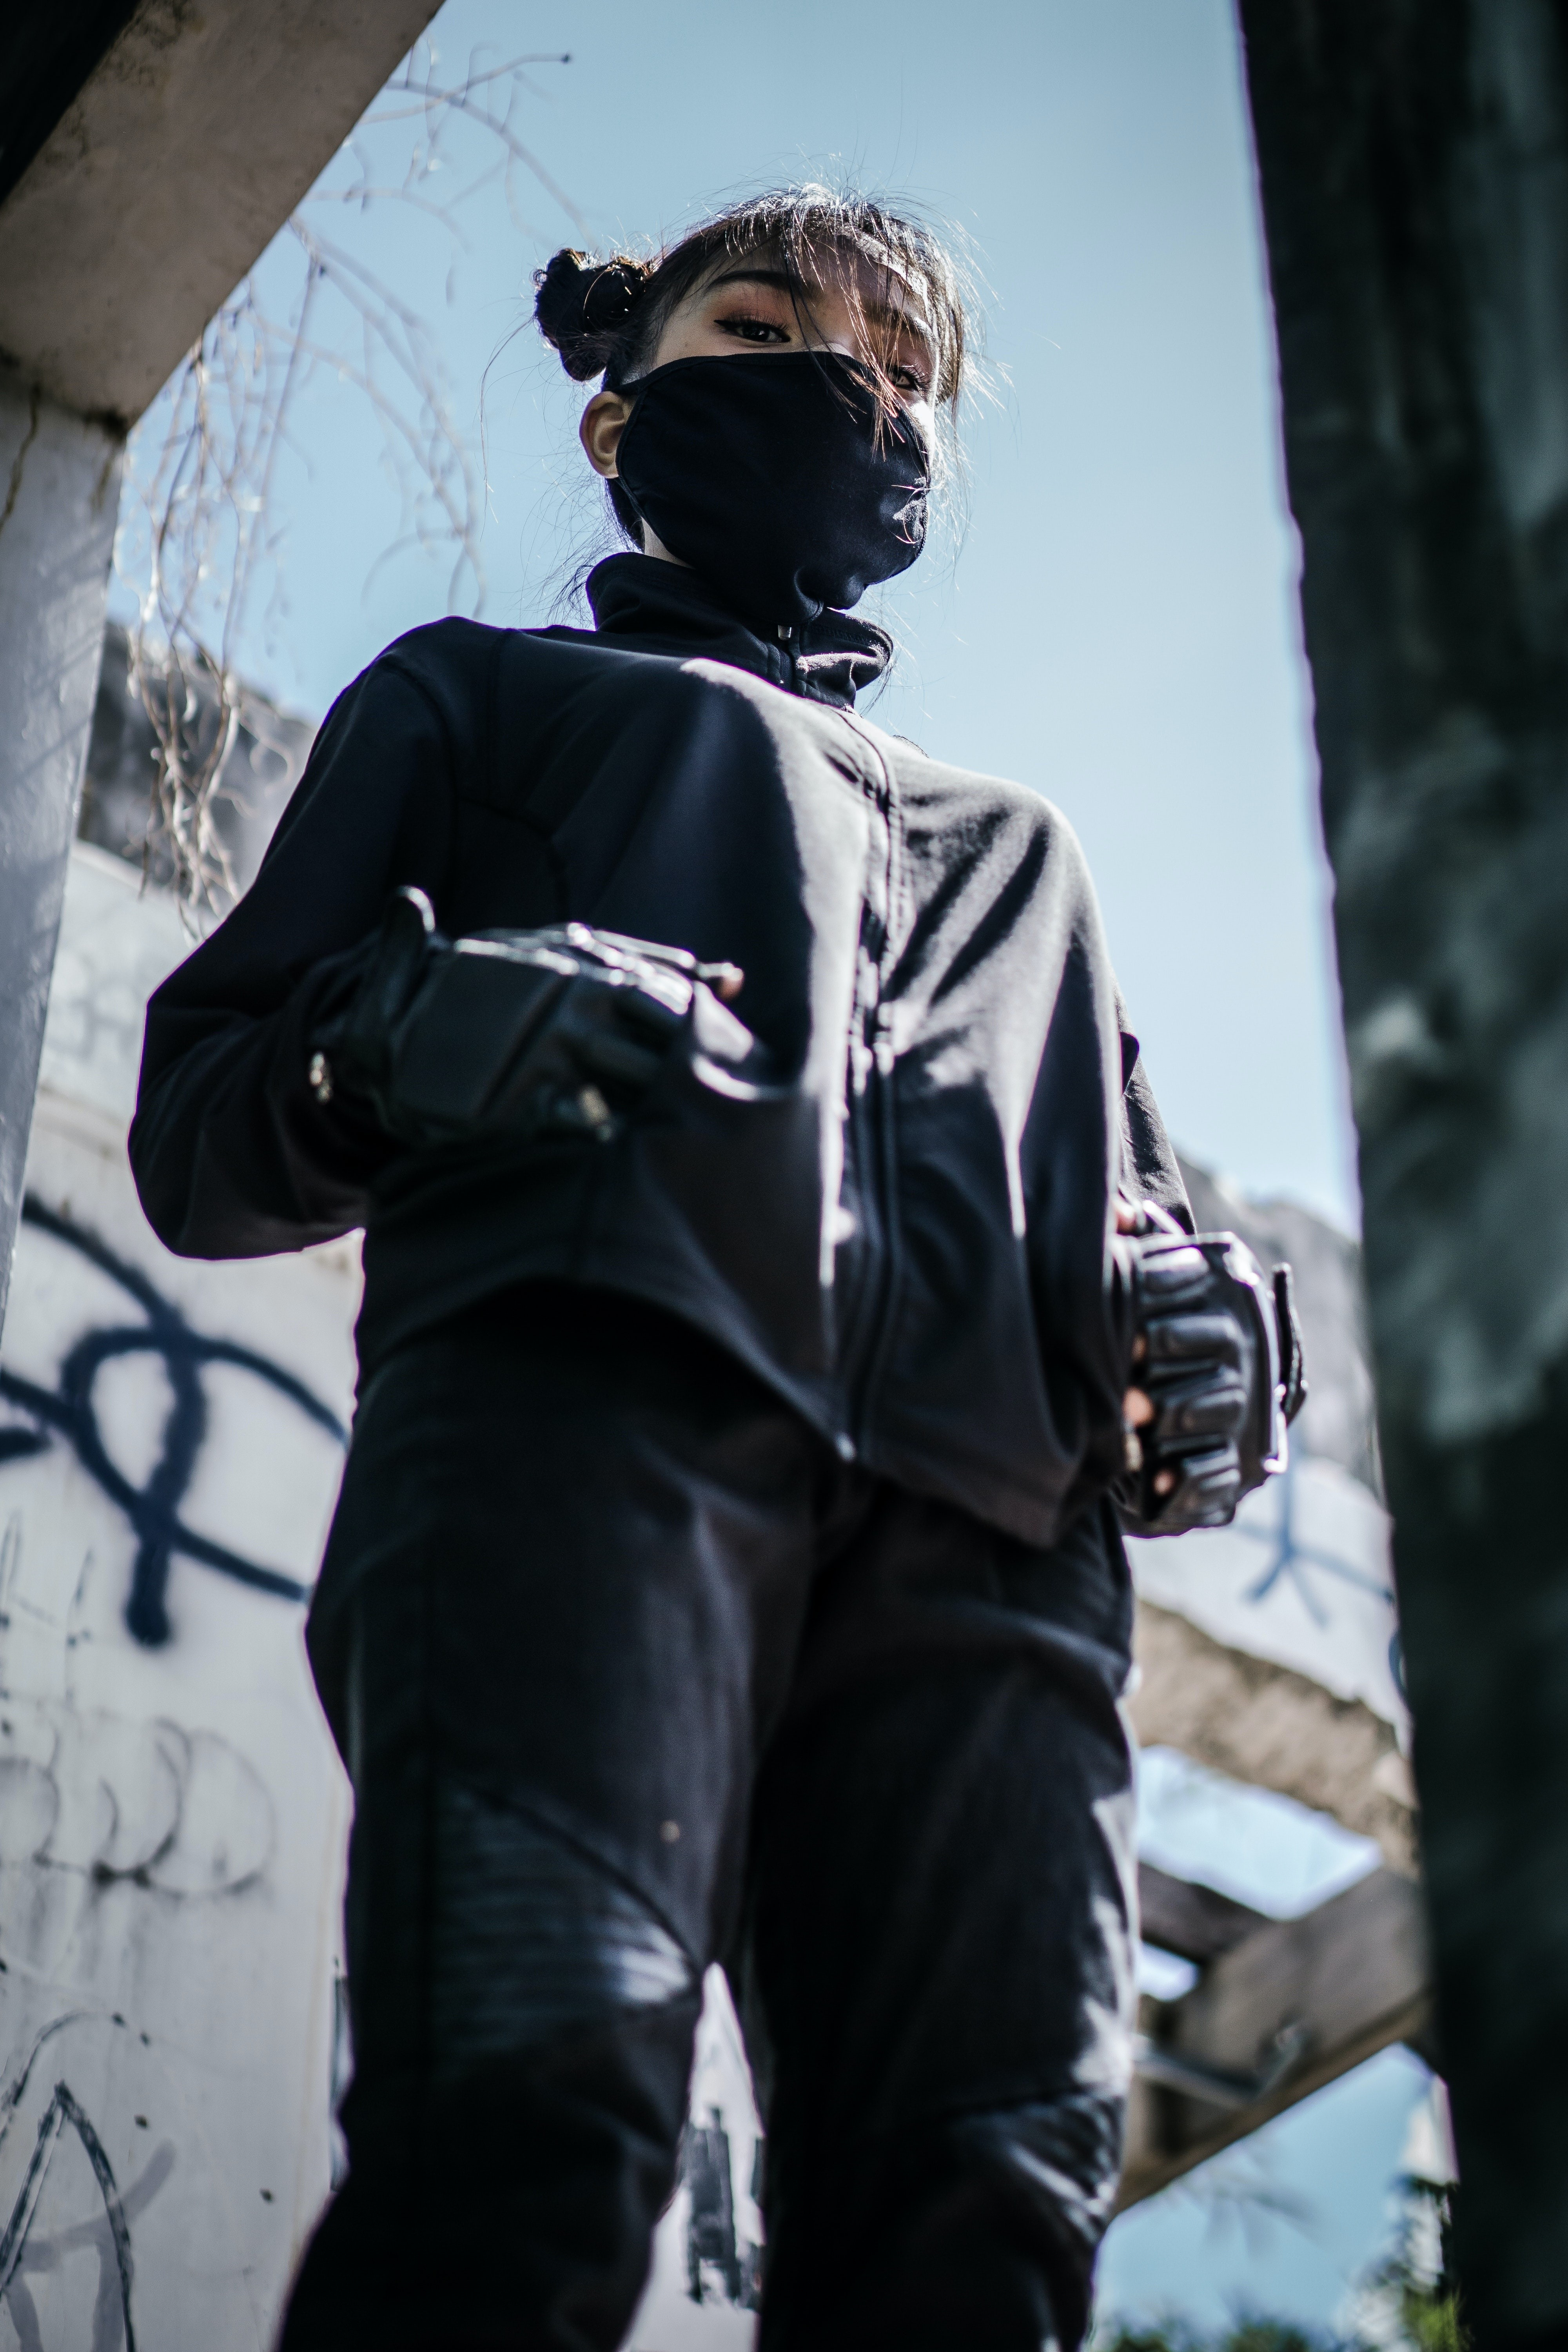face_with_mask: (553, 174, 955, 613)
